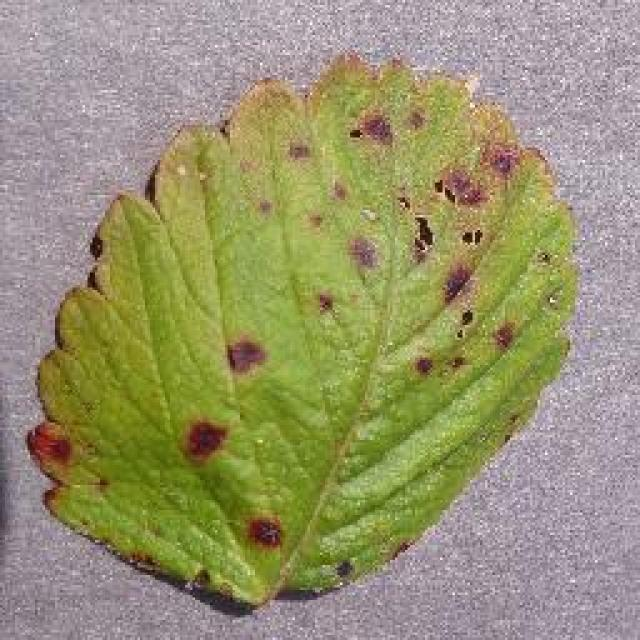Strawberry leaf scorch: (57, 75, 538, 595)
